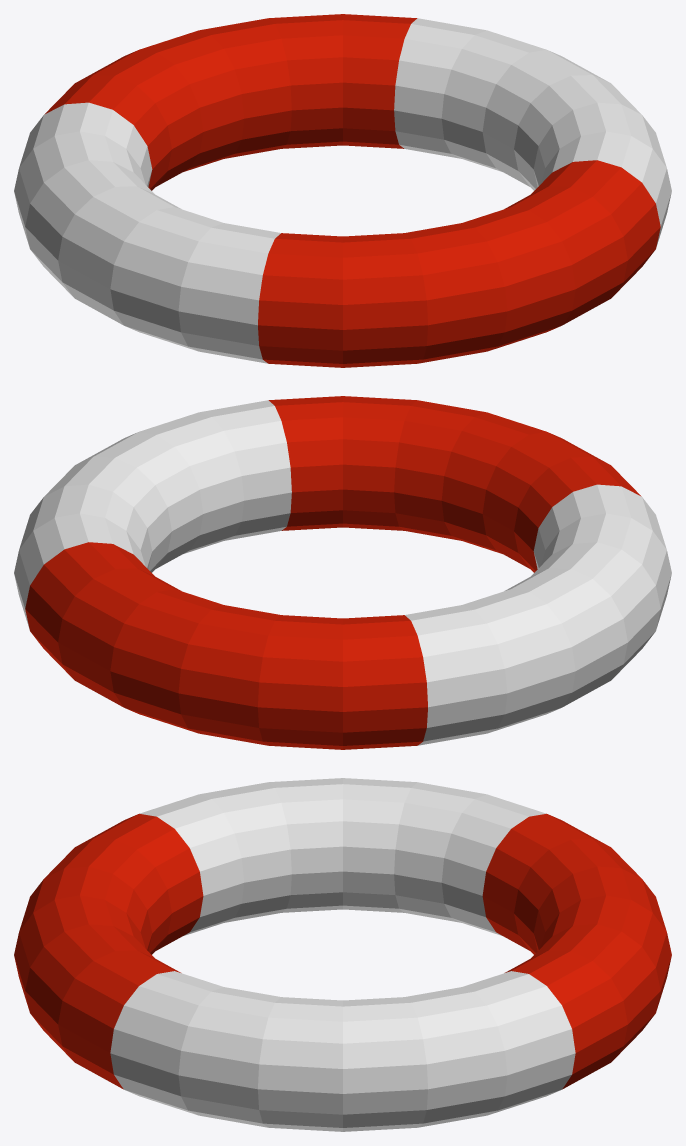
File: LifeRingFBX.fbx
The picture shows the model from 3 angles, top to bottom: view 1: azimuth 30°, elevation 25°; view 2: azimuth 150°, elevation 25°; view 3: azimuth 270°, elevation 25°; orthographic projection.
Parts seen in each view (by area): view 1: LifeRing; view 2: LifeRing; view 3: LifeRing.
Part boxes in pixels (x1=…): LifeRing: x1=14, y1=14, x2=671, y2=367; LifeRing: x1=14, y1=396, x2=671, y2=749; LifeRing: x1=14, y1=778, x2=671, y2=1131.
Bounding box in the file's own units: 2.5 × 0.5 × 2.5.
